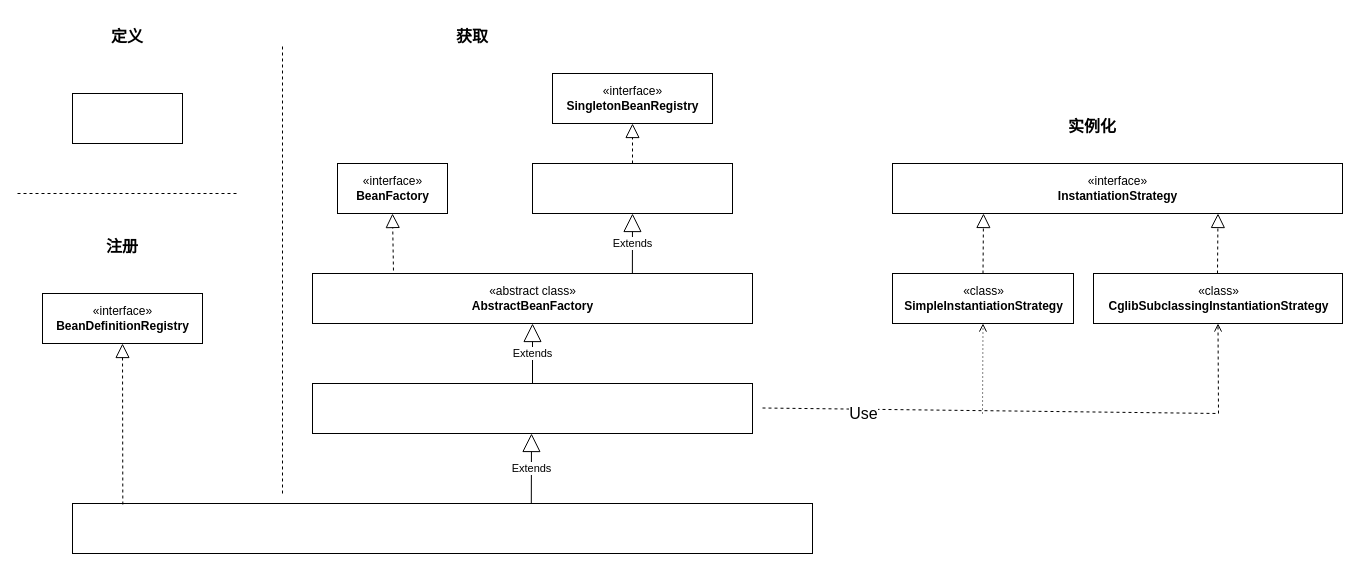
Some shapes in this 1360 by 571 pixel diagram are drawn without their labels. The shapes that lost their labels are listed below. From the top down, each one's centre as x and y in pixels, then its label:
pixel 127 118: «class» BeanDefinition
pixel 632 188: «class» DefaultSingletonBeanRegistry
pixel 532 408: «abstract class» AbstractAutowireCapableBeanFactory
pixel 442 528: «class» DefaultListableBeanFactory
